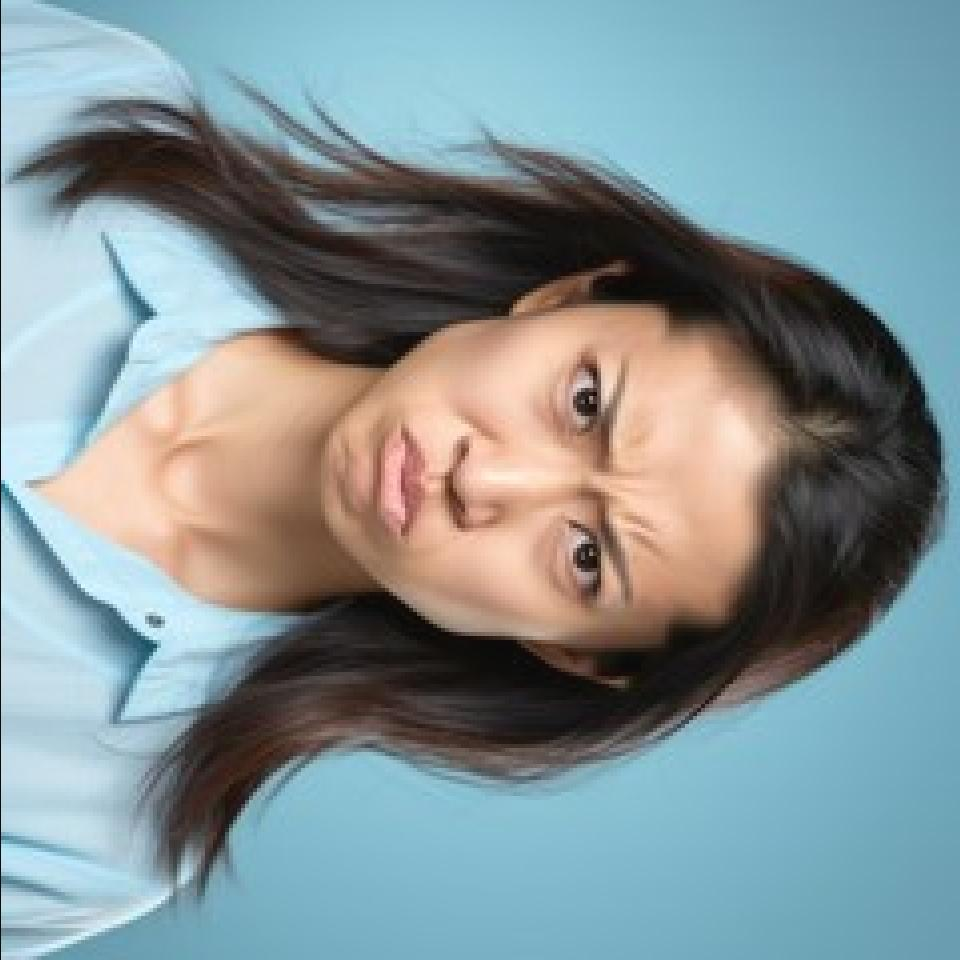Scared: (313, 266, 743, 682)
